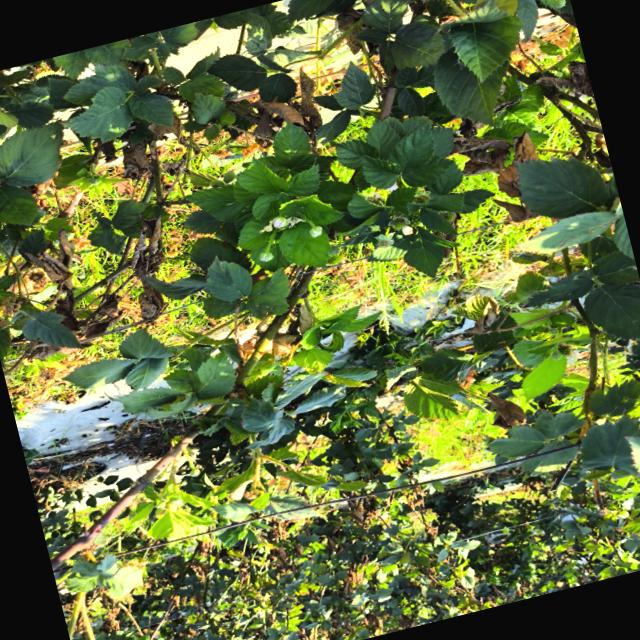boton: (270, 216, 287, 228), (259, 250, 274, 261), (309, 226, 322, 237)
